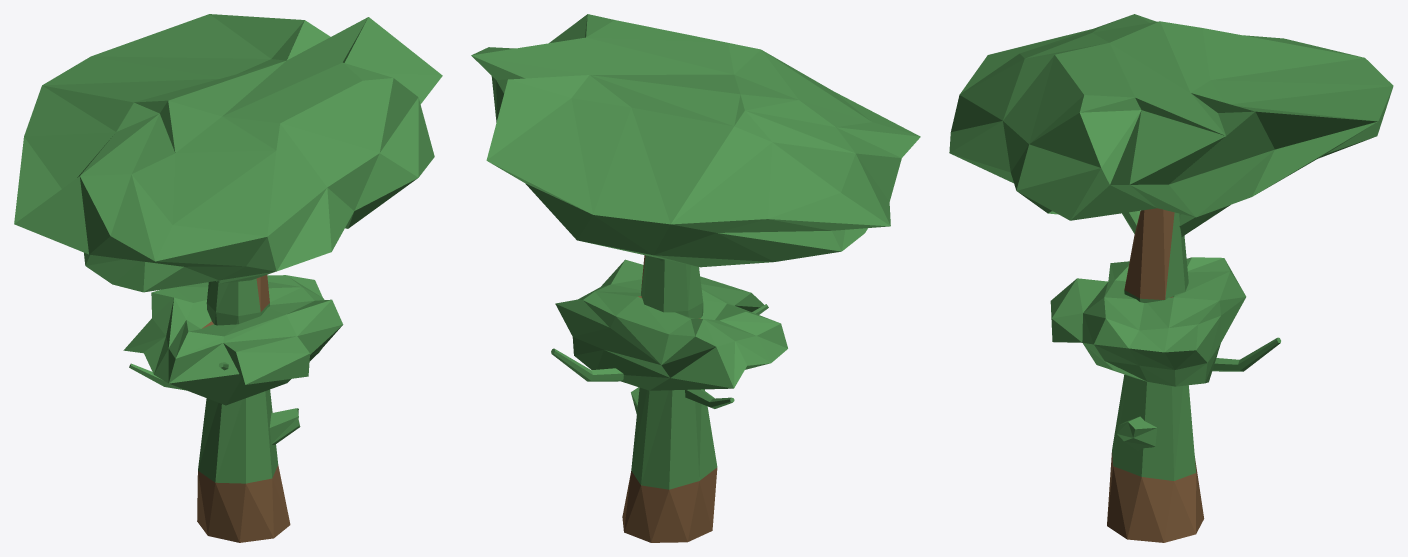
File: tree3d-200.glb
3 renders of one model, left to right at view 1: azimuth 30°, elevation 25°; view 2: azimuth 150°, elevation 25°; view 3: azimuth 270°, elevation 25°, orthographic. The views are drawn at different scales.
Visible parts, largest first — view 1: tree3d-200; view 2: tree3d-200; view 3: tree3d-200.
Boxes of the visible parts, box(x1,y1,x2,y2) form: tree3d-200: box(14, 14, 442, 542); tree3d-200: box(471, 14, 920, 542); tree3d-200: box(949, 14, 1393, 542).
Bounding box in the file's own units: 0.9626 × 1 × 0.8543.
